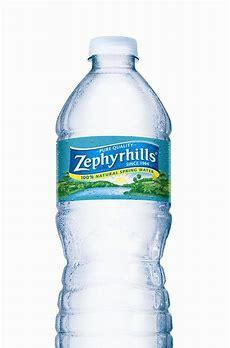plastic_bottle: (51, 33, 175, 348)
